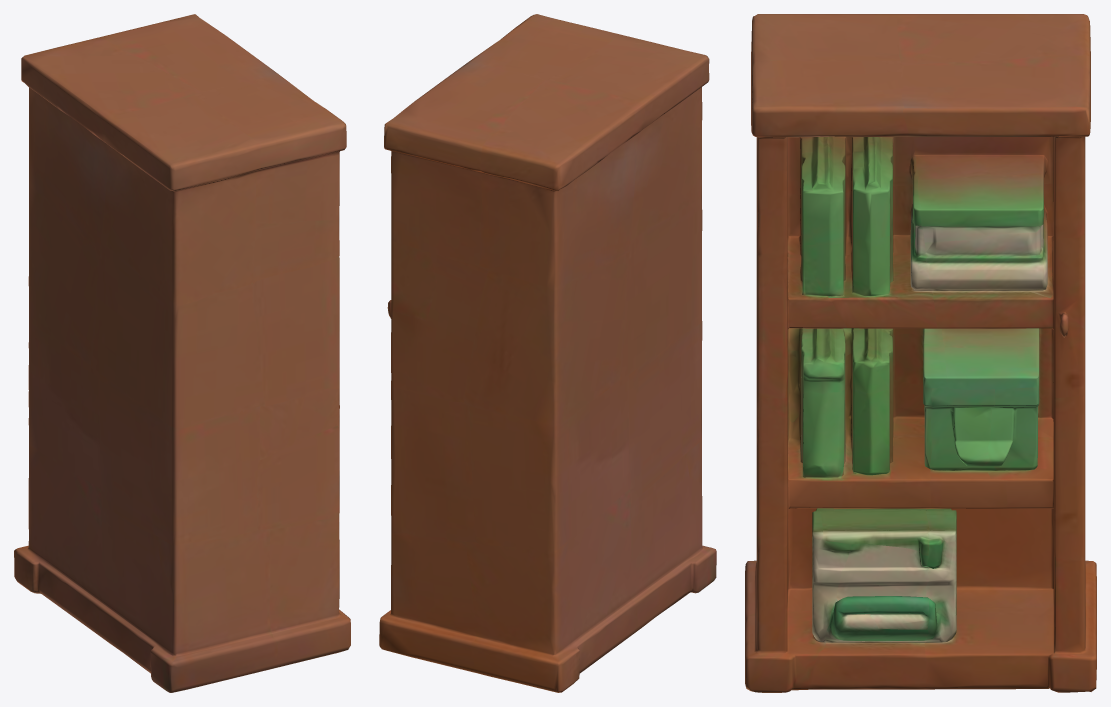
File: shelf.glb
3 renders of one model, left to right at view 1: azimuth 30°, elevation 25°; view 2: azimuth 150°, elevation 25°; view 3: azimuth 270°, elevation 25°, orthographic. The views are drawn at different scales.
Parts seen in each view (by area): view 1: tripo_node_f7e53bfb-efb1-4cbe-97b1-29a9e6c66f78; view 2: tripo_node_f7e53bfb-efb1-4cbe-97b1-29a9e6c66f78; view 3: tripo_node_f7e53bfb-efb1-4cbe-97b1-29a9e6c66f78.
Part boxes in pixels (x1,y1,x2,y2): tripo_node_f7e53bfb-efb1-4cbe-97b1-29a9e6c66f78: [14, 14, 350, 692]; tripo_node_f7e53bfb-efb1-4cbe-97b1-29a9e6c66f78: [379, 14, 716, 692]; tripo_node_f7e53bfb-efb1-4cbe-97b1-29a9e6c66f78: [745, 14, 1096, 692].
Size of the model in its own units: 0.3705 by 1 by 0.5435.
1 material, 1 textured.
